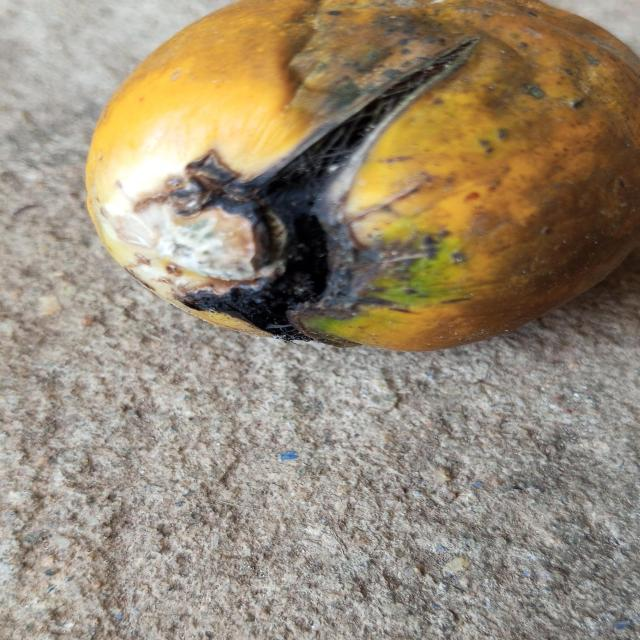damaged: (86, 0, 640, 351)
